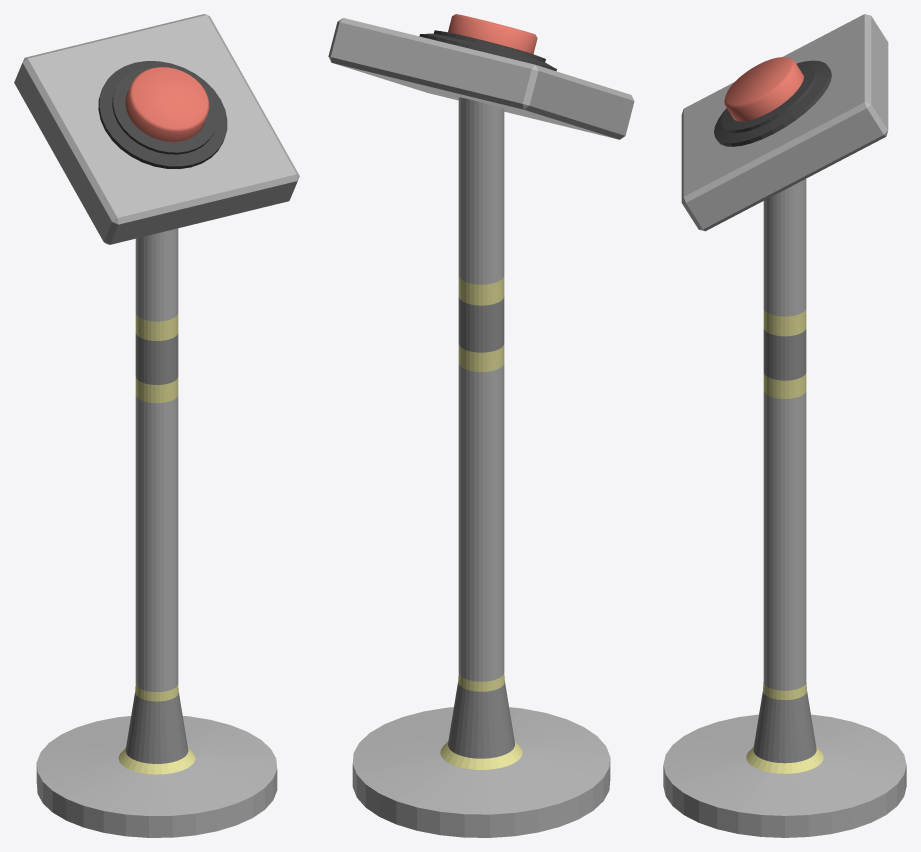
Rendered from ButtonOnStand1.fbx.
3 views of the same model, side by side, from view 1: azimuth 30°, elevation 25°; view 2: azimuth 150°, elevation 25°; view 3: azimuth 270°, elevation 25° (orthographic). The views are drawn at different scales.
Parts seen in each view (by area): view 1: Circular_Base, Button_Circular_Base; view 2: Circular_Base, Button_Circular_Base; view 3: Circular_Base, Button_Circular_Base.
Boxes of the visible parts, x1,y1,x2,y2 form: Circular_Base: (14, 14, 299, 837); Button_Circular_Base: (125, 67, 209, 141); Circular_Base: (328, 18, 634, 837); Button_Circular_Base: (448, 14, 537, 54); Circular_Base: (663, 14, 906, 837); Button_Circular_Base: (724, 57, 803, 121).
Bounding box in the file's own units: 200 × 661 × 200.
